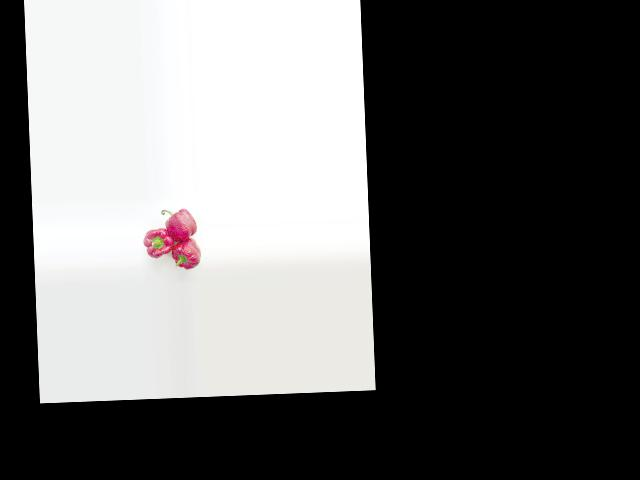bell_pepper: (159, 200, 198, 239)
